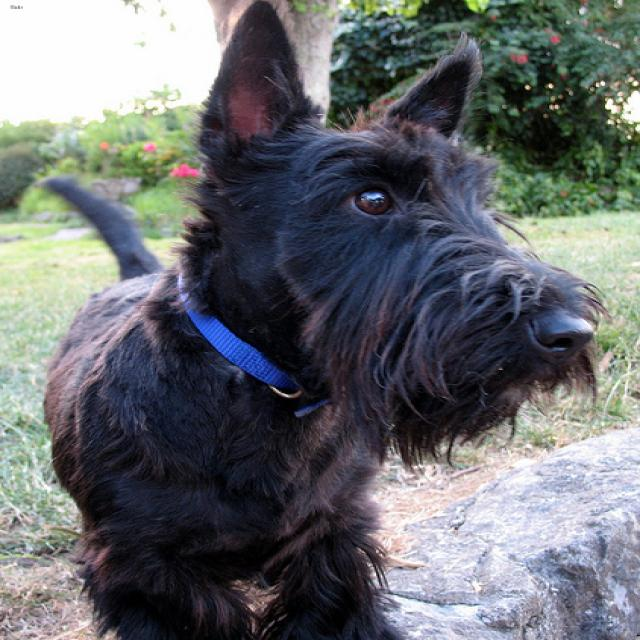dog-scottish_terrier: (27, 1, 620, 637)
